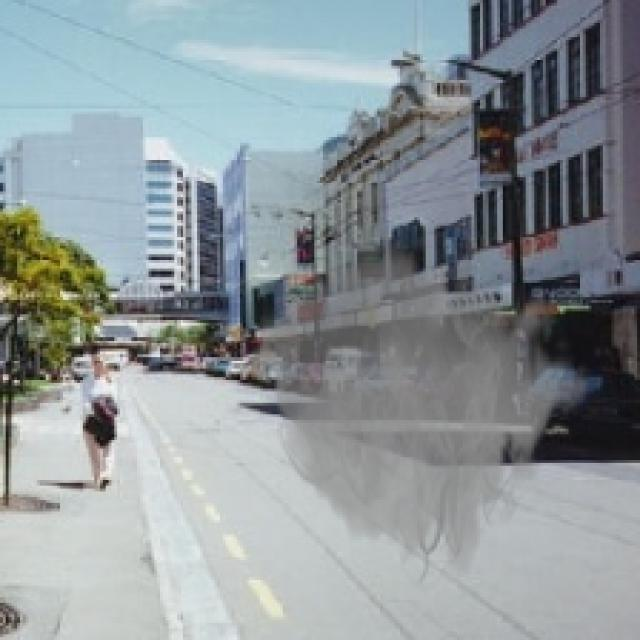Smoke: (248, 203, 592, 592)
